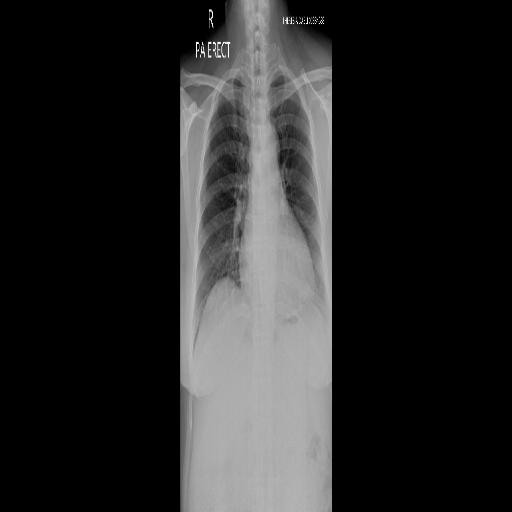kardiomegali: (190, 46, 330, 385)
